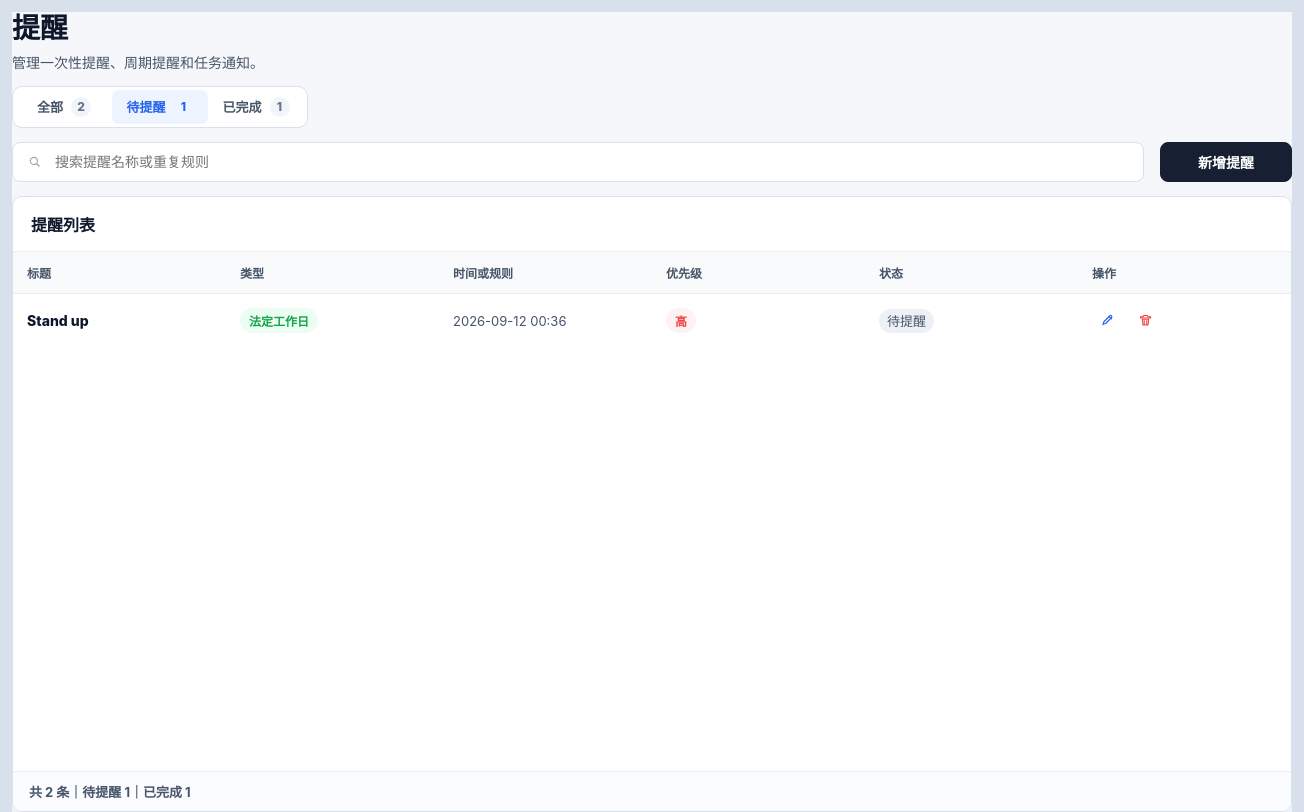
Test: filters reminders between all, pending, and completed views
Expected: the button "待提醒 1" is shown, [112,90,208,124]
Expected: the button "已完成 1" is shown, [208,90,304,124]
Click the button "全部 2": click(64, 107) [16,90,112,124]
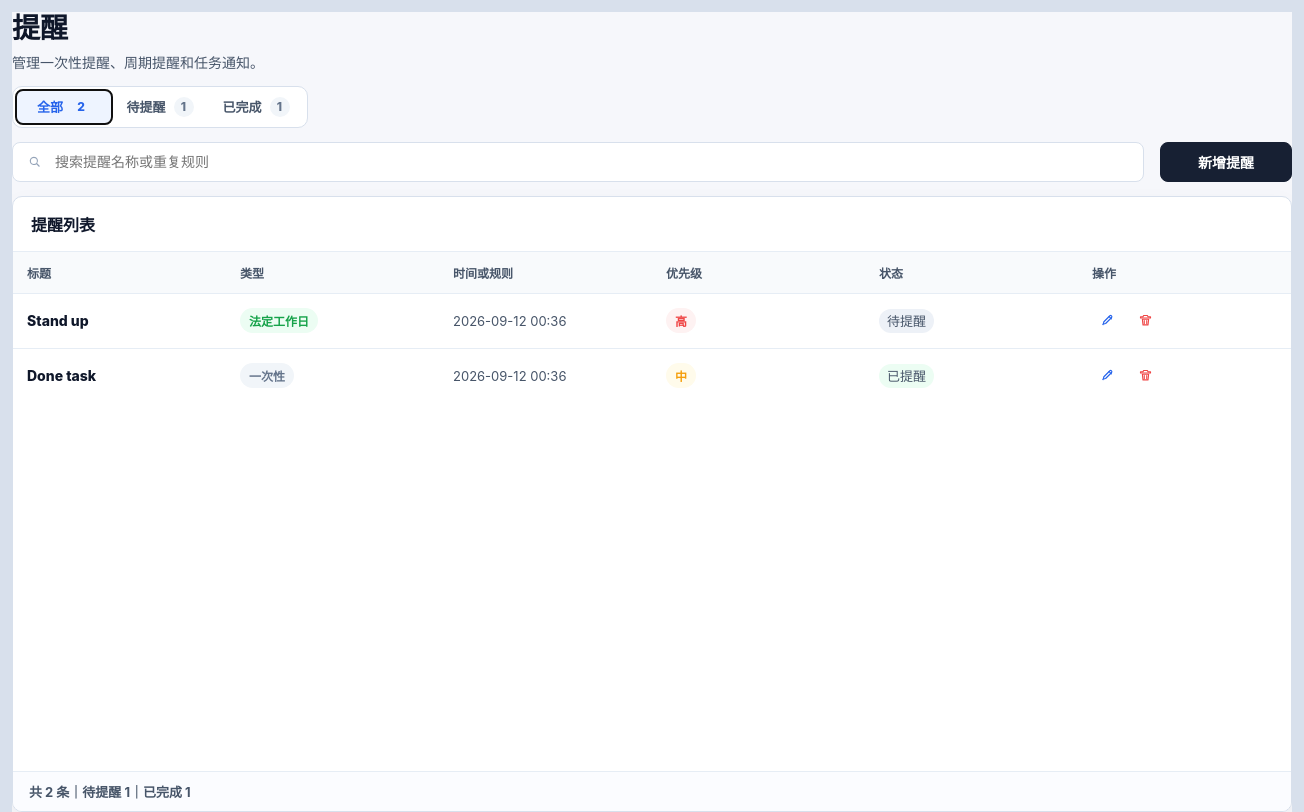
Expected: the row "Stand up 法定工作日 2026-09-12 00:36 高 待提醒" is shown, [13,293,1291,348]
Now the row "Done task 一次性 2026-09-12 00:36 中 已提醒" is shown, box [13,348,1291,403]
Click the button "已完成 1": click(256, 107) [208,90,304,124]
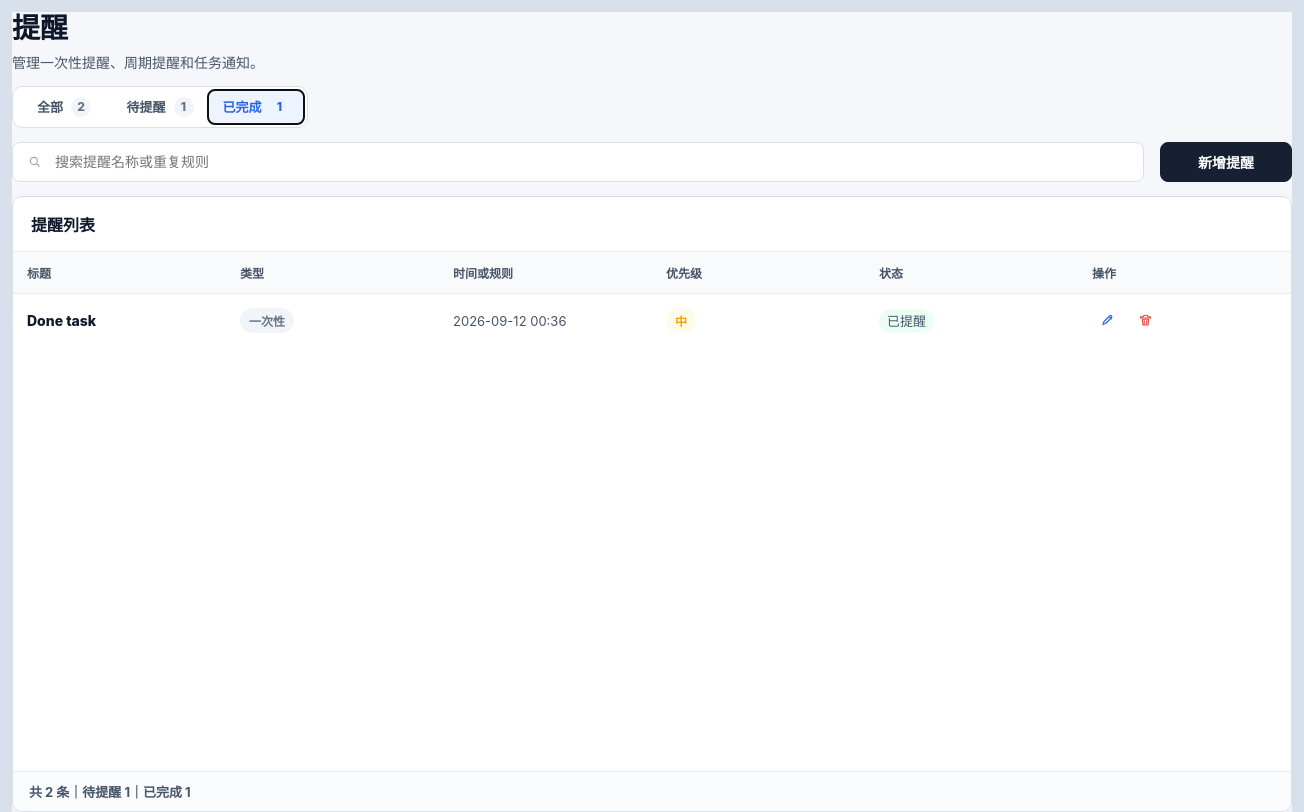
Now the row "Done task 一次性 2026-09-12 00:36 中 已提醒" is shown, box [13,293,1291,348]
Now the text "Stand up" is gone
